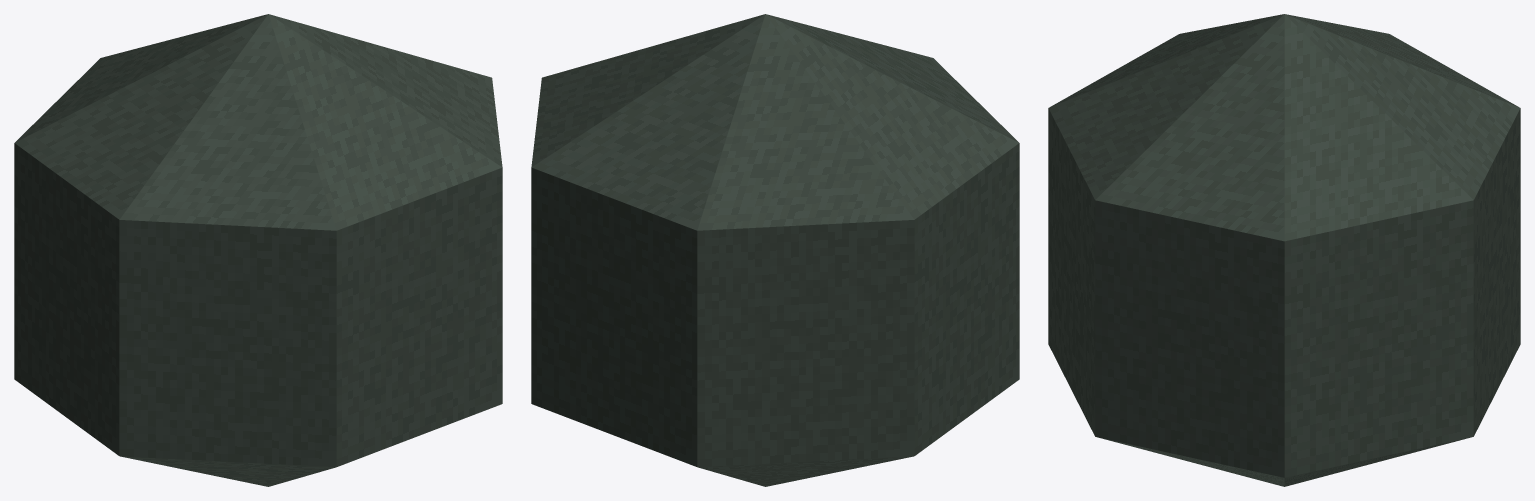
The model's file is rock.glb.
3 views of the same model, side by side, from view 1: azimuth 30°, elevation 25°; view 2: azimuth 150°, elevation 25°; view 3: azimuth 270°, elevation 25° (orthographic).
Visible parts, largest first — view 1: rock; view 2: rock; view 3: rock.
Boxes of the visible parts, bbox=[...] form: rock: bbox=[14, 14, 502, 486]; rock: bbox=[531, 14, 1019, 486]; rock: bbox=[1048, 14, 1520, 486].
Bounding box in the file's own units: 1.32 × 1.4 × 1.27.
Materials: 1 (1 with a texture image).
